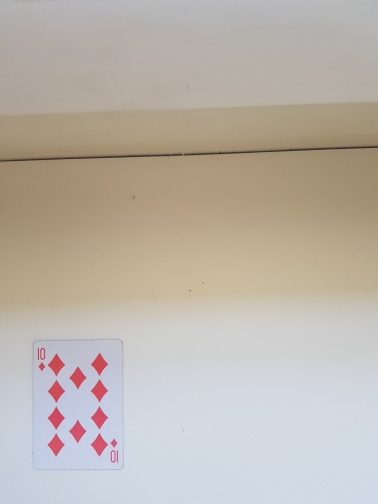ten: (31, 337, 125, 472)
